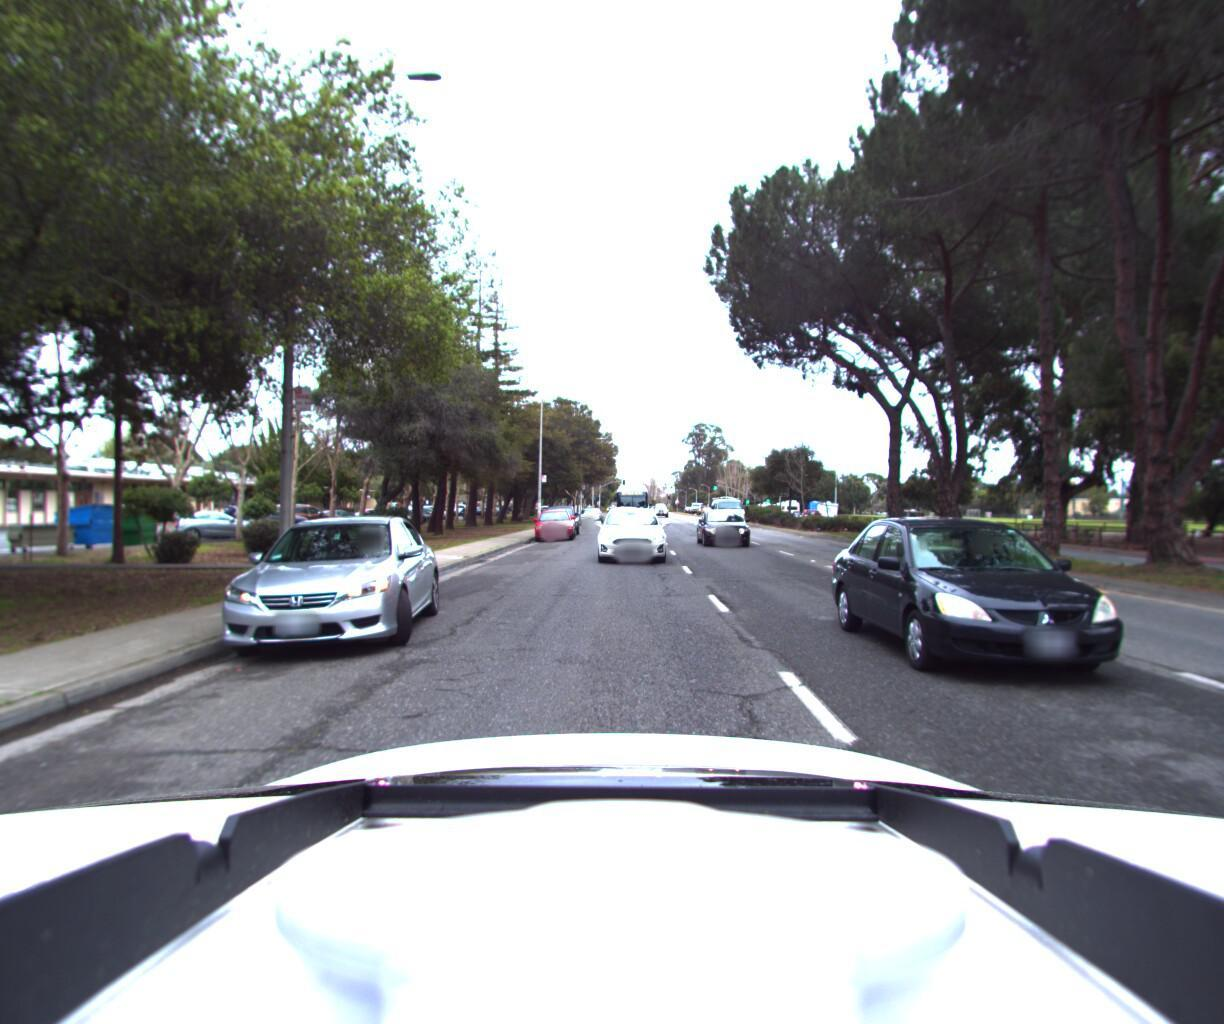car: (848, 495, 1224, 734), (217, 506, 446, 668), (599, 506, 674, 566), (695, 510, 753, 552), (533, 504, 575, 541), (710, 491, 748, 523), (878, 506, 924, 532), (791, 507, 824, 530), (577, 505, 601, 524)
other_vehicle: (610, 484, 648, 522)
